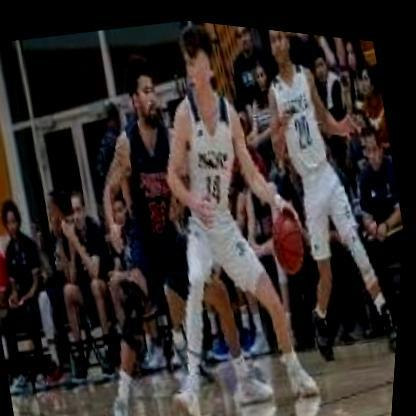basketball: (269, 203, 315, 269)
